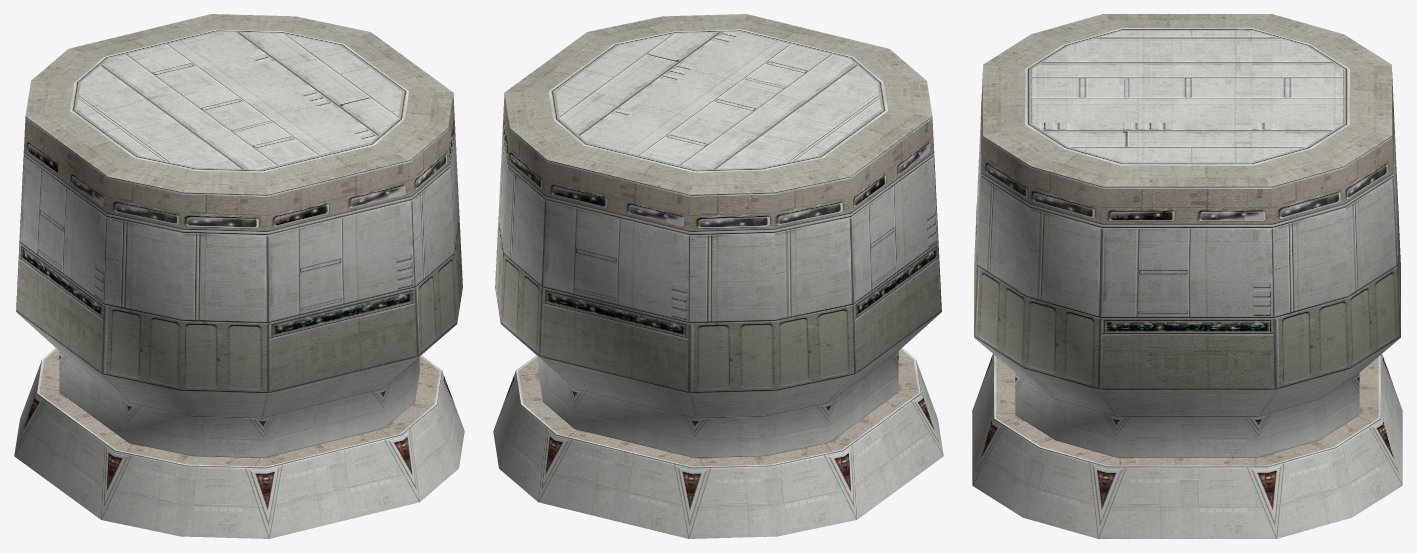
File: bes2_bldg_a_bot1.glb
3 views of the same model, side by side, from view 1: azimuth 30°, elevation 25°; view 2: azimuth 150°, elevation 25°; view 3: azimuth 270°, elevation 25° (orthographic). The views are drawn at different scales.
Visible parts, largest first — view 1: mesh_part2, mesh_part1; view 2: mesh_part2, mesh_part1; view 3: mesh_part2, mesh_part1.
Part boxes in pixels (x1,y1,x2,y2): mesh_part2: (16, 14, 462, 467); mesh_part1: (14, 313, 464, 538); mesh_part2: (495, 14, 941, 467); mesh_part1: (493, 313, 943, 538); mesh_part2: (974, 14, 1400, 466); mesh_part1: (972, 338, 1402, 538).
Size of the model in its own units: 22.17 by 20 by 22.17.
Materials: 2 (2 with a texture image).
